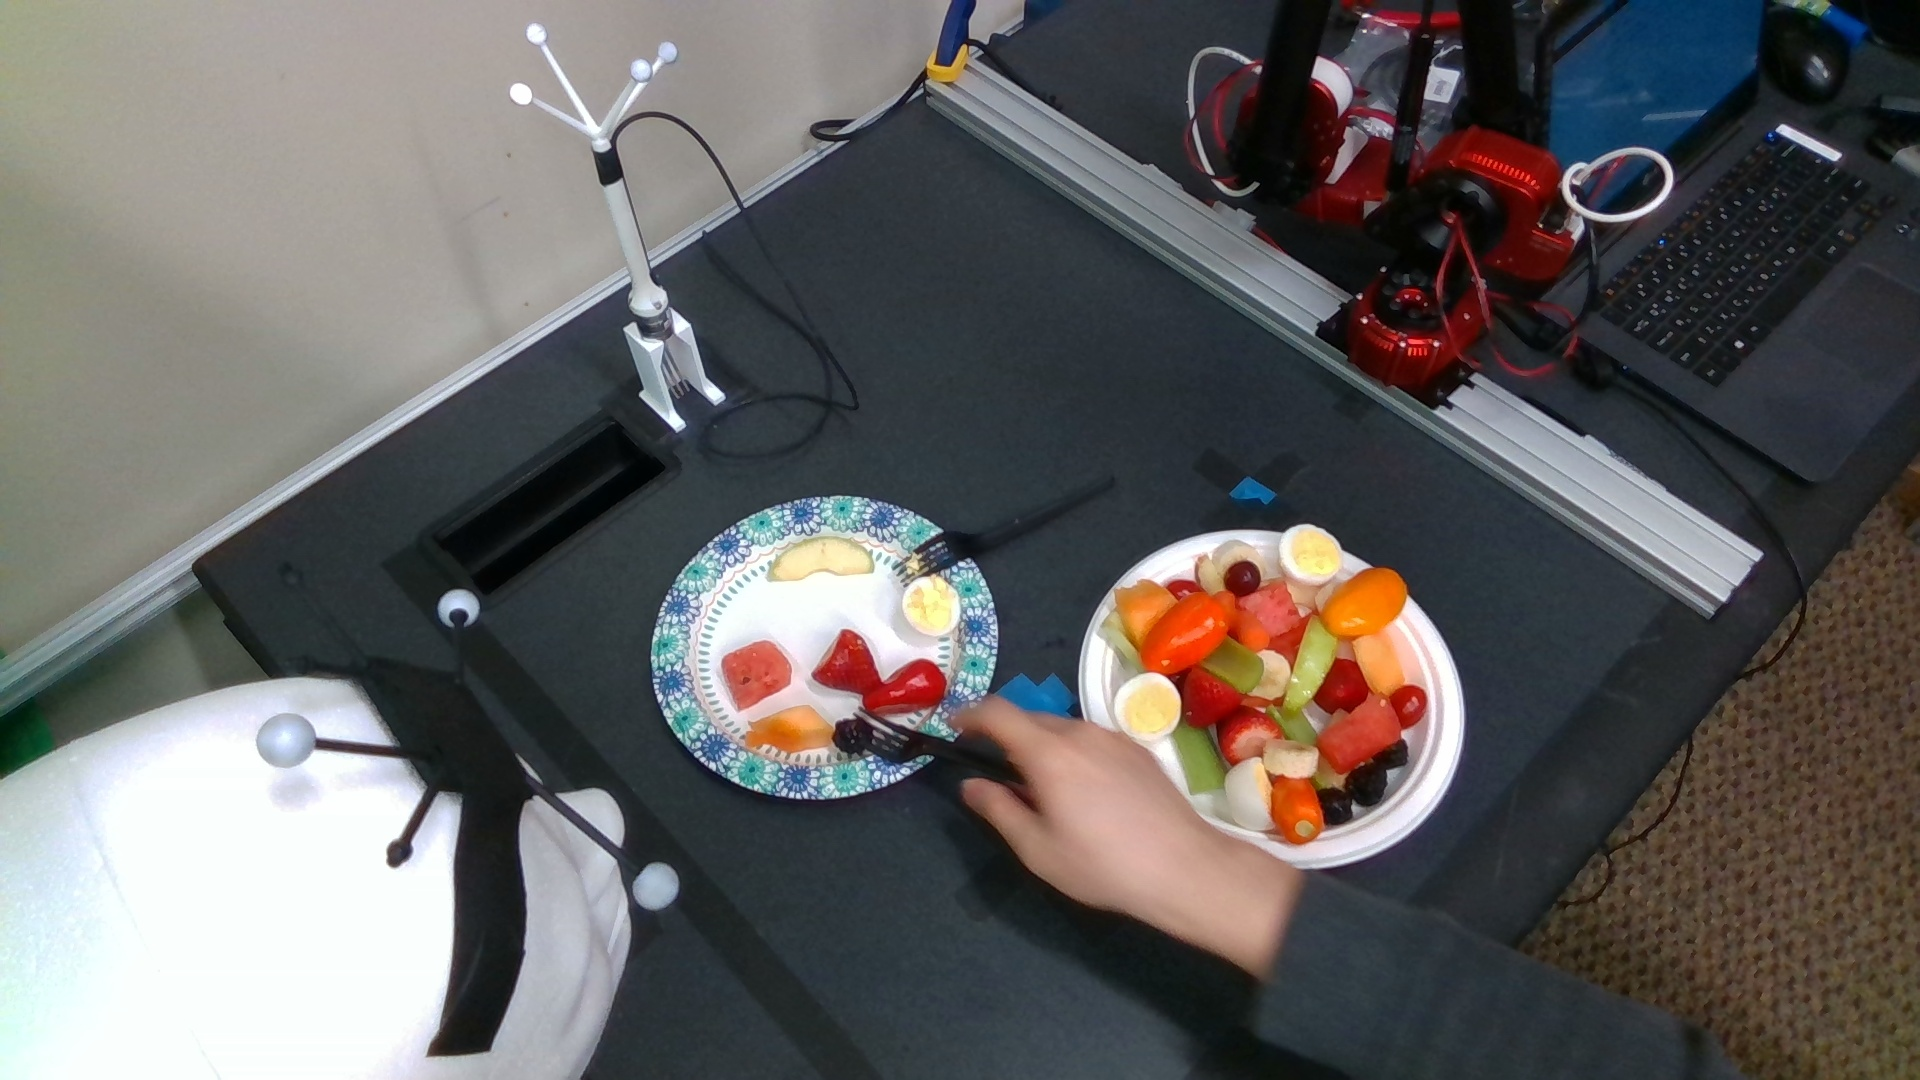apple: (1283, 617, 1338, 709), (767, 537, 876, 582)
banana: (1262, 738, 1317, 777)
bell_pepper: (1145, 589, 1225, 673), (1324, 568, 1407, 640), (866, 659, 947, 717), (1274, 775, 1323, 841)
blackberry: (1346, 764, 1387, 806), (1317, 789, 1353, 824)
cantalope: (749, 704, 832, 752), (1118, 582, 1172, 647), (1356, 633, 1404, 695)
celery: (1178, 725, 1228, 795), (1205, 636, 1265, 694)
cherry_tomato: (1393, 684, 1427, 727)
egg: (1114, 673, 1180, 738), (1280, 524, 1342, 584), (1225, 757, 1276, 829), (902, 576, 960, 634)
grape_purple: (1224, 560, 1262, 596)
melon: (1321, 699, 1402, 773), (723, 641, 791, 712)
strawberry: (812, 629, 882, 694), (1218, 709, 1276, 762), (1183, 669, 1242, 719), (1315, 659, 1367, 713)
